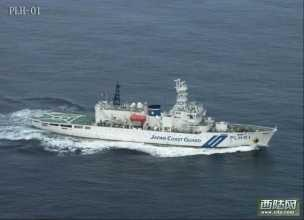warship: (17, 74, 280, 148)
